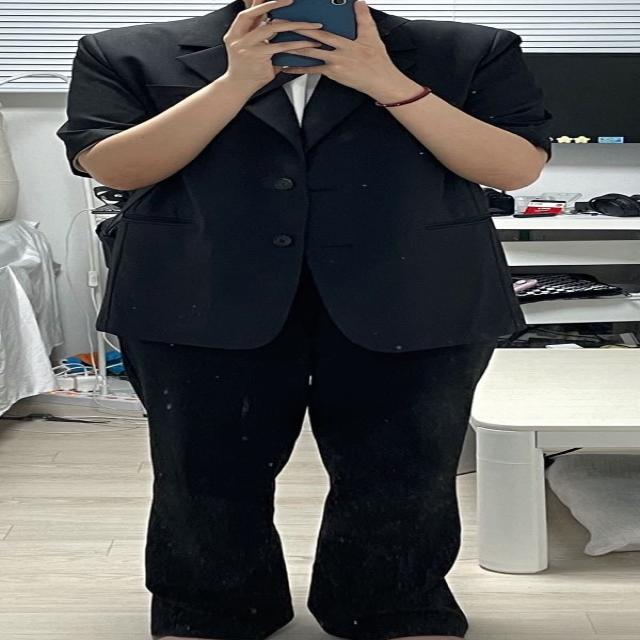blazer: (60, 0, 548, 345)
slacks: (110, 245, 490, 640)
